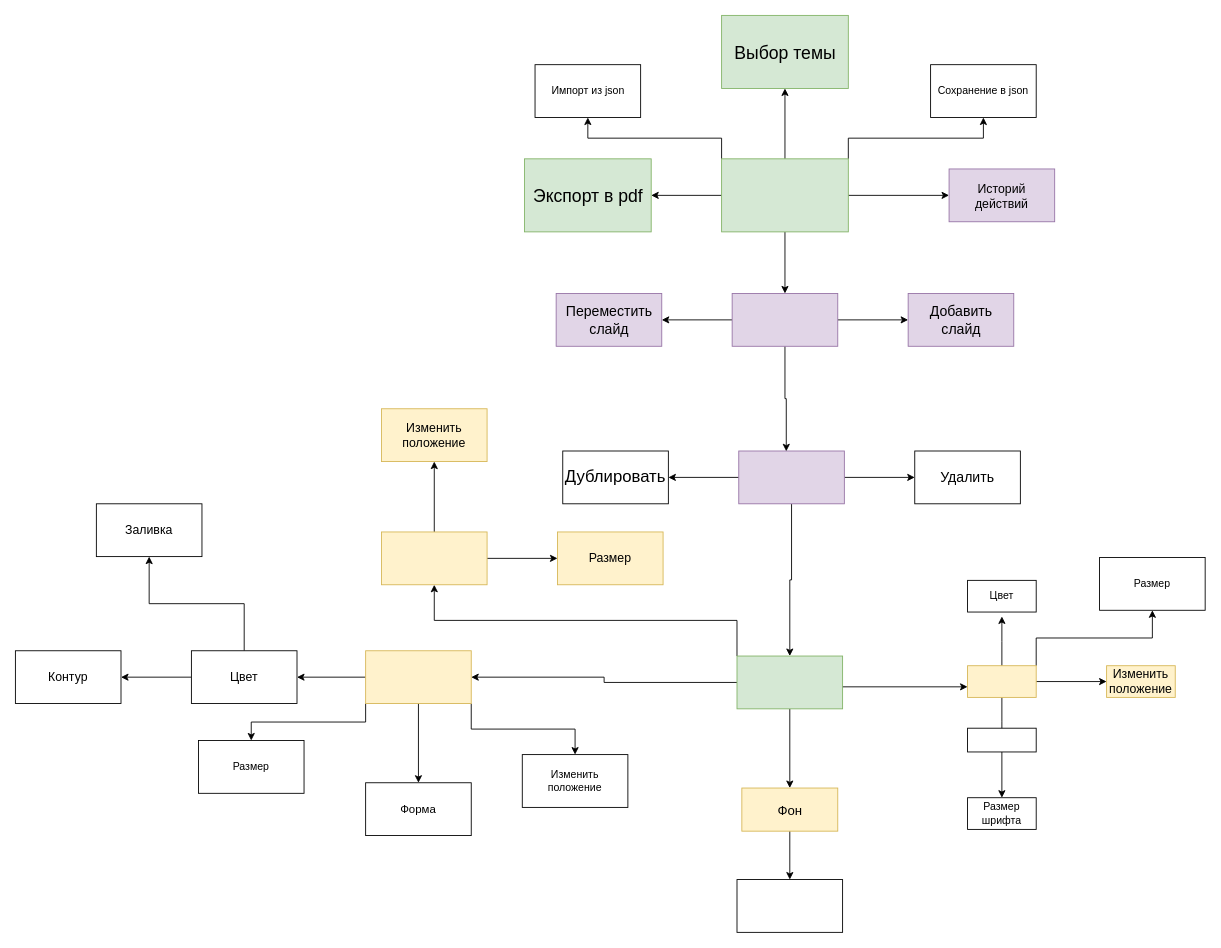
Image size: 1221x948. Some labels were removed from this diagram. The centre of each missing label's shape, as x and y in pixels:
Документ (Презентация): point (784, 195)
Картинка: point (434, 558)
Объект: point (789, 682)
Примитивы: point (418, 677)
С утройства/выбрать из каталога: point (789, 905)
Слайд: point (791, 477)
Список слайдов: point (784, 319)
Текст: point (1001, 681)
Шрифт: point (1001, 739)
